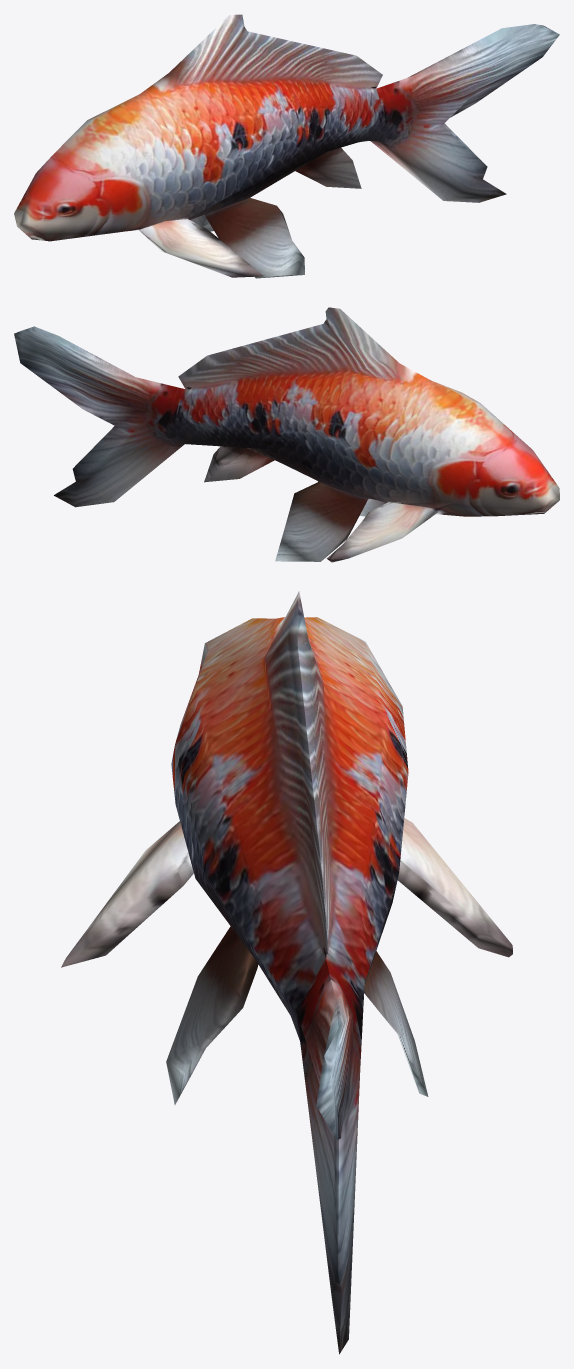
The model's file is koi.glb.
3 renders of one model, top to bottom at view 1: azimuth 30°, elevation 25°; view 2: azimuth 150°, elevation 25°; view 3: azimuth 270°, elevation 25°, orthographic. The views are drawn at different scales.
Visible parts, largest first — view 1: koifish_0; view 2: koifish_0; view 3: koifish_0.
Boxes of the visible parts, <box> form: koifish_0: <box>14,14,559,278</box>; koifish_0: <box>14,307,559,562</box>; koifish_0: <box>61,591,512,1354</box>.
Size of the model in its own units: 6.39 by 2.87 by 2.34.
1 material, 1 textured.
